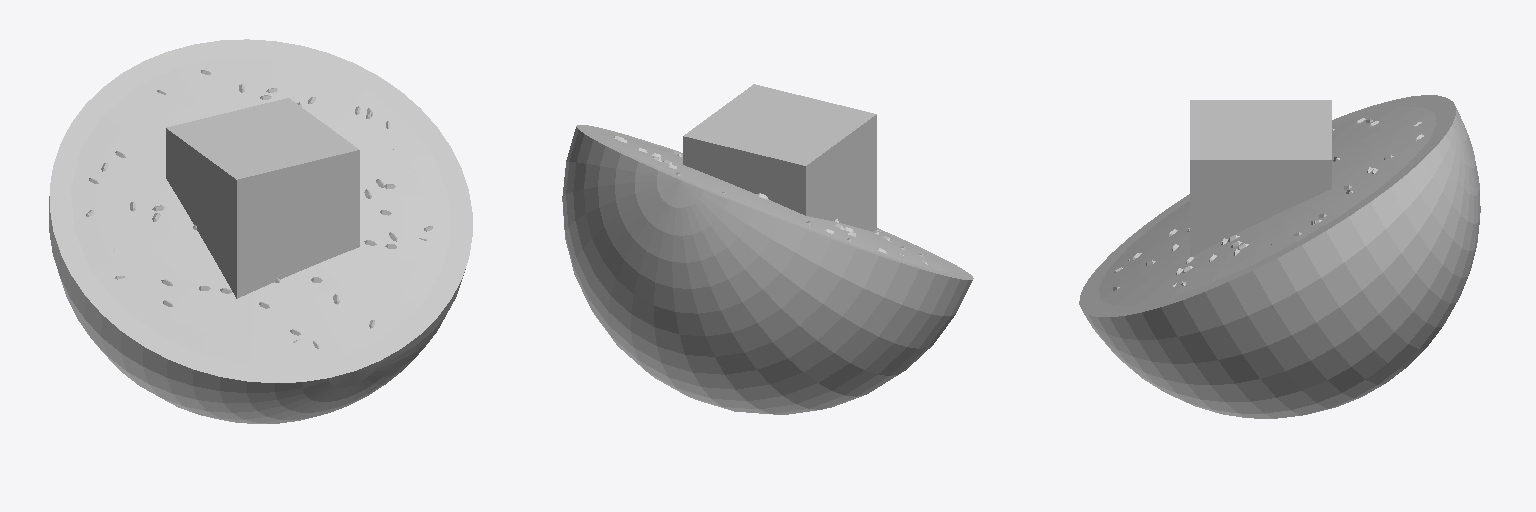
3 renders of one model, left to right at view 1: azimuth 30°, elevation 25°; view 2: azimuth 150°, elevation 25°; view 3: azimuth 270°, elevation 25°, orthographic.
Visible parts, largest first — view 1: Oil_Tank.1, Capsule, Cube, Capsule_0.1; view 2: Capsule, Cube, Oil_Tank.1, Capsule_0.1; view 3: Capsule, Oil_Tank.1, Cube, Capsule_0.1.
Part boxes in pixels (bbox=[...]): Oil_Tank.1: bbox=[71, 58, 451, 364]; Capsule: bbox=[49, 39, 472, 423]; Cube: bbox=[166, 98, 359, 298]; Capsule_0.1: bbox=[86, 70, 432, 348]; Capsule: bbox=[562, 125, 973, 414]; Cube: bbox=[683, 84, 876, 231]; Oil_Tank.1: bbox=[596, 132, 953, 271]; Capsule_0.1: bbox=[614, 136, 927, 264]; Capsule: bbox=[1079, 95, 1480, 418]; Oil_Tank.1: bbox=[1099, 107, 1436, 305]; Cube: bbox=[1190, 100, 1331, 256]; Capsule_0.1: bbox=[1113, 118, 1423, 290].
Size of the model in its own units: 0.5964 by 0.4458 by 0.5649.